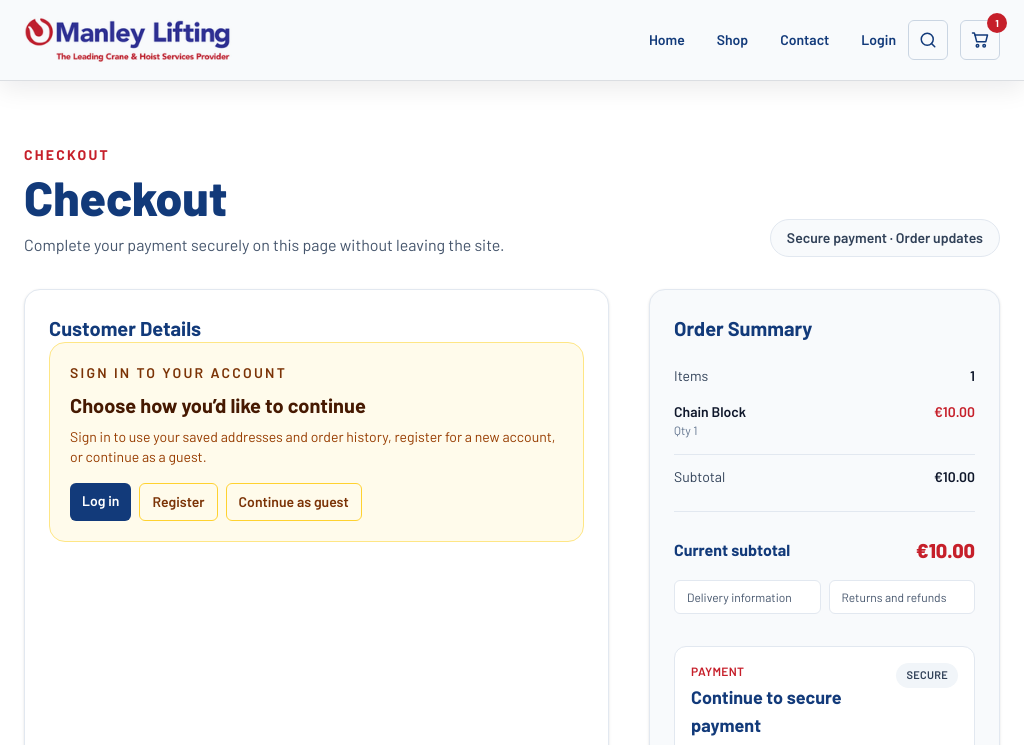
Test: checkout saved-address flow › shows a sign-in prompt for guests and lets them continue as guests
Expected: the text "Sign in to your account" is shown, [70, 364, 287, 381]
What coordinates should you click on to do the following:
click the button "Continue as guest"
I would click on:
 (294, 502)
Its box is [226, 483, 362, 521].
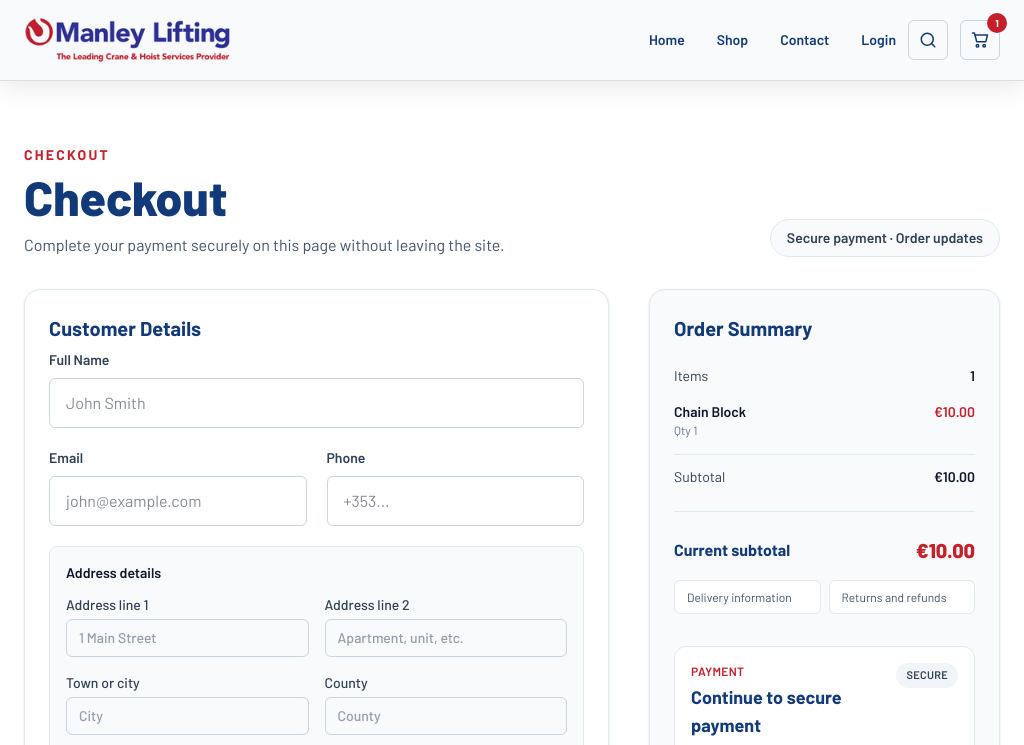
Now the field labelled "Full Name" is shown, box [49, 378, 584, 428]
Now the field labelled "Email" is shown, box [49, 476, 306, 526]
